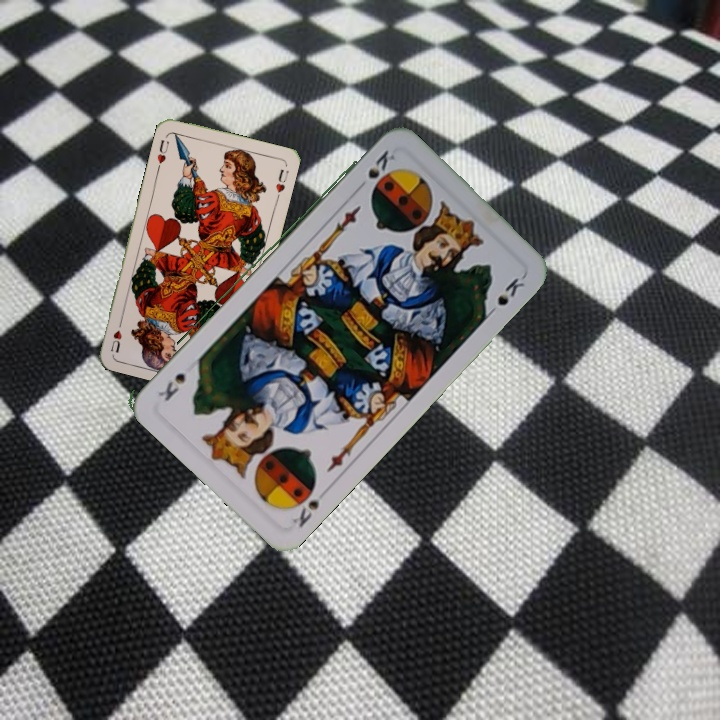HU: (153, 136, 172, 171)
SK: (288, 485, 332, 530), (364, 146, 398, 182)
